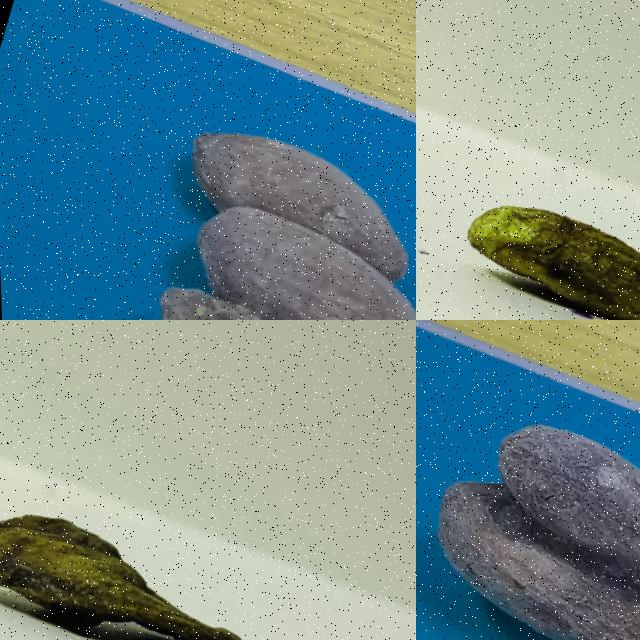Agglomerated_cocoabeans: (31, 65, 415, 319), (416, 354, 639, 639)
Flat_cocoabeans: (0, 472, 314, 639), (416, 108, 639, 319)
